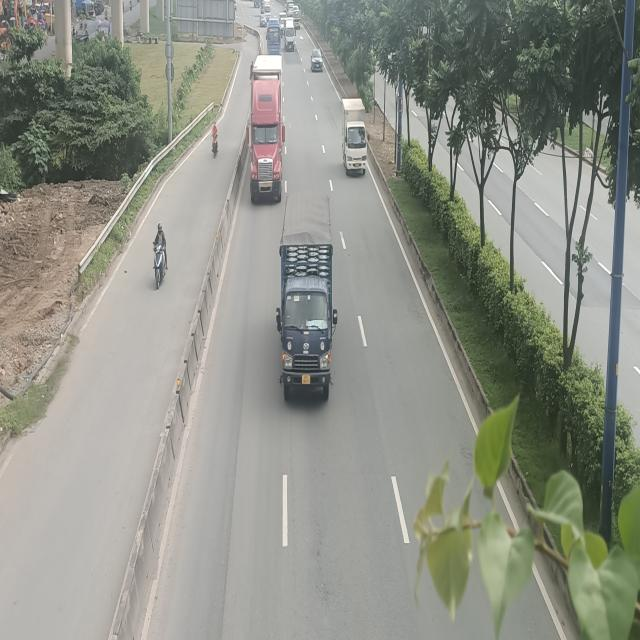car: (310, 48, 324, 72)
coach: (266, 18, 282, 55)
container: (246, 54, 285, 204)
truck: (278, 190, 338, 400), (342, 95, 370, 178), (284, 17, 296, 52)
